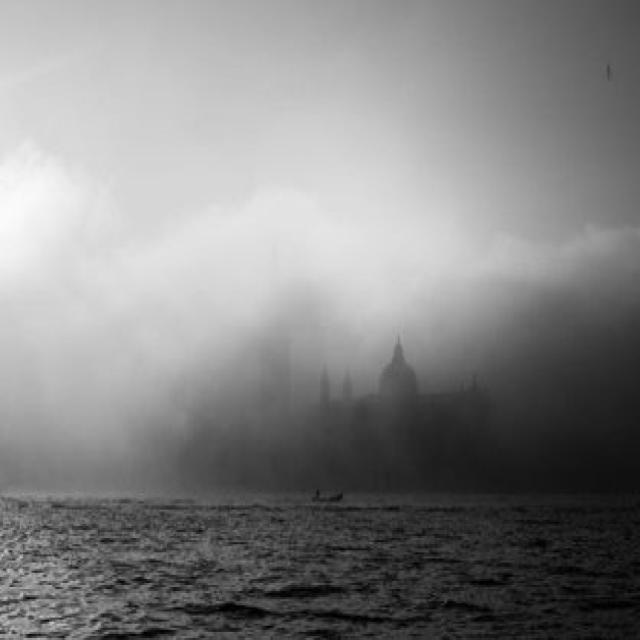cargoship: (182, 338, 513, 496)
